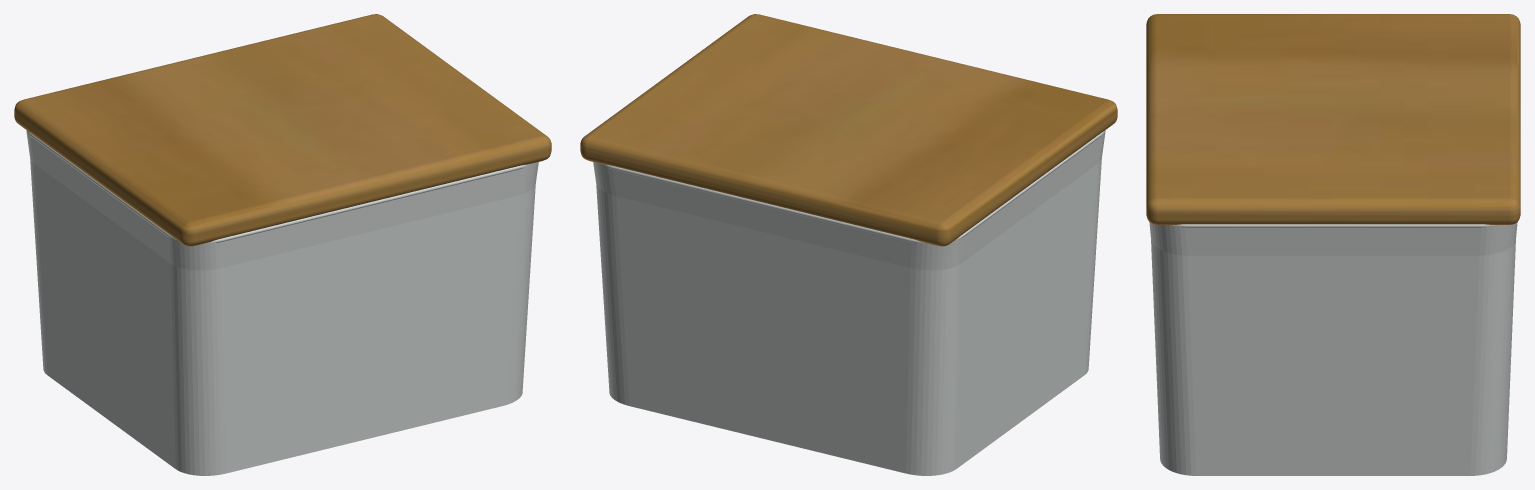
File: counter_items__bamboo_lid_box.glb
3 renders of one model, left to right at view 1: azimuth 30°, elevation 25°; view 2: azimuth 150°, elevation 25°; view 3: azimuth 270°, elevation 25°, orthographic. The views are drawn at different scales.
Visible parts, largest first — view 1: body, lid; view 2: body, lid; view 3: body, lid.
Part boxes in pixels (bbox=[...]): body: bbox=[26, 130, 538, 475]; lid: bbox=[14, 14, 551, 246]; body: bbox=[593, 130, 1105, 475]; lid: bbox=[580, 14, 1117, 246]; body: bbox=[1149, 222, 1517, 475]; lid: bbox=[1146, 14, 1520, 224].
Bounding box in the file's own units: 0.1621 × 0.1099 × 0.133.
3 materials, 1 textured.
